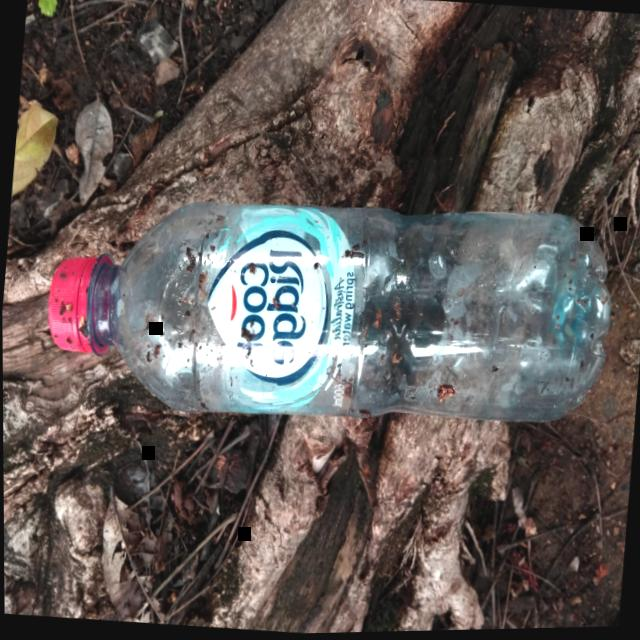Clear plastic bottle: (47, 201, 610, 424)
Plastic bottle cap: (47, 256, 89, 352)
